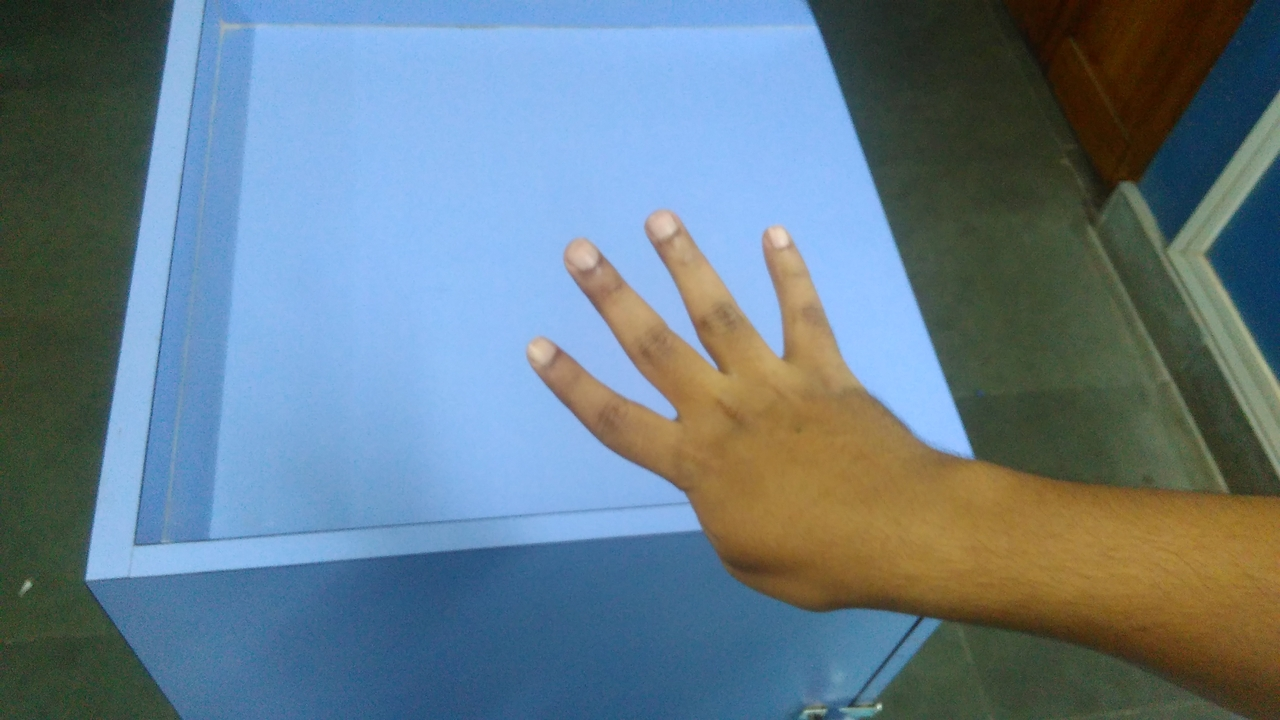fingertip: (550, 224, 626, 284), (634, 196, 706, 252), (512, 322, 576, 382), (750, 212, 814, 264)
